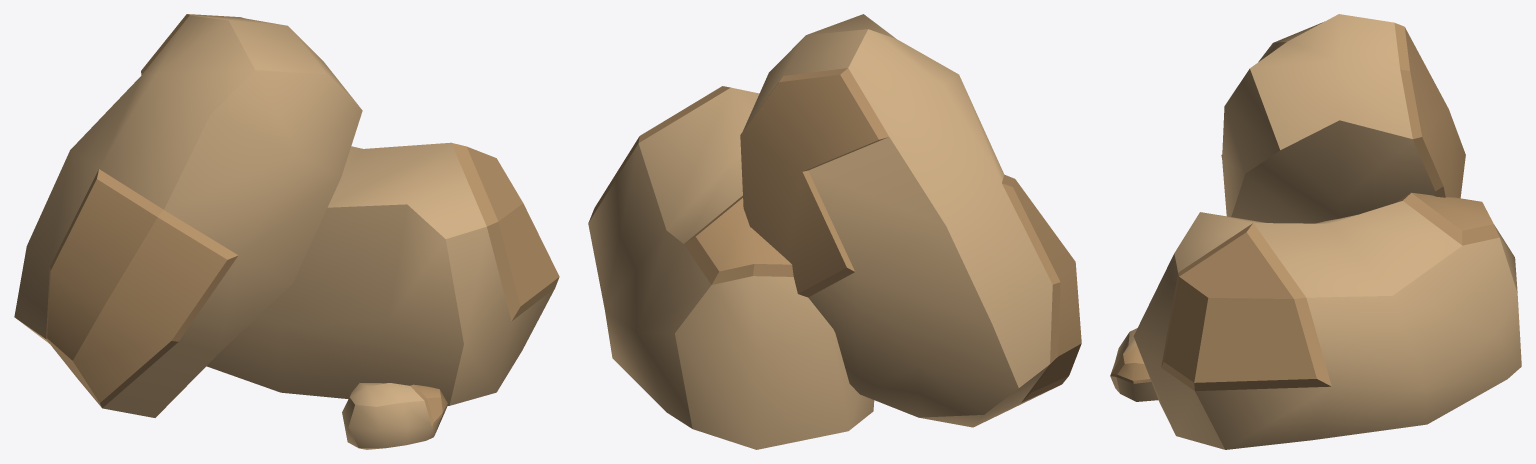
Rendered from Stone_Temple_04.fbx.
The picture shows the model from 3 angles, left to right: view 1: azimuth 30°, elevation 25°; view 2: azimuth 150°, elevation 25°; view 3: azimuth 270°, elevation 25°; orthographic projection. The views are drawn at different scales.
Visible parts, largest first — view 1: Stone_006; view 2: Stone_006; view 3: Stone_006.
Part boxes in pixels (left/top/right/bottom): Stone_006: left=14, top=14, right=559, bottom=449; Stone_006: left=588, top=14, right=1081, bottom=449; Stone_006: left=1110, top=14, right=1521, bottom=449.
Size of the model in its own units: 109 by 83.49 by 89.23.
Materials: 1 (1 with a texture image).
